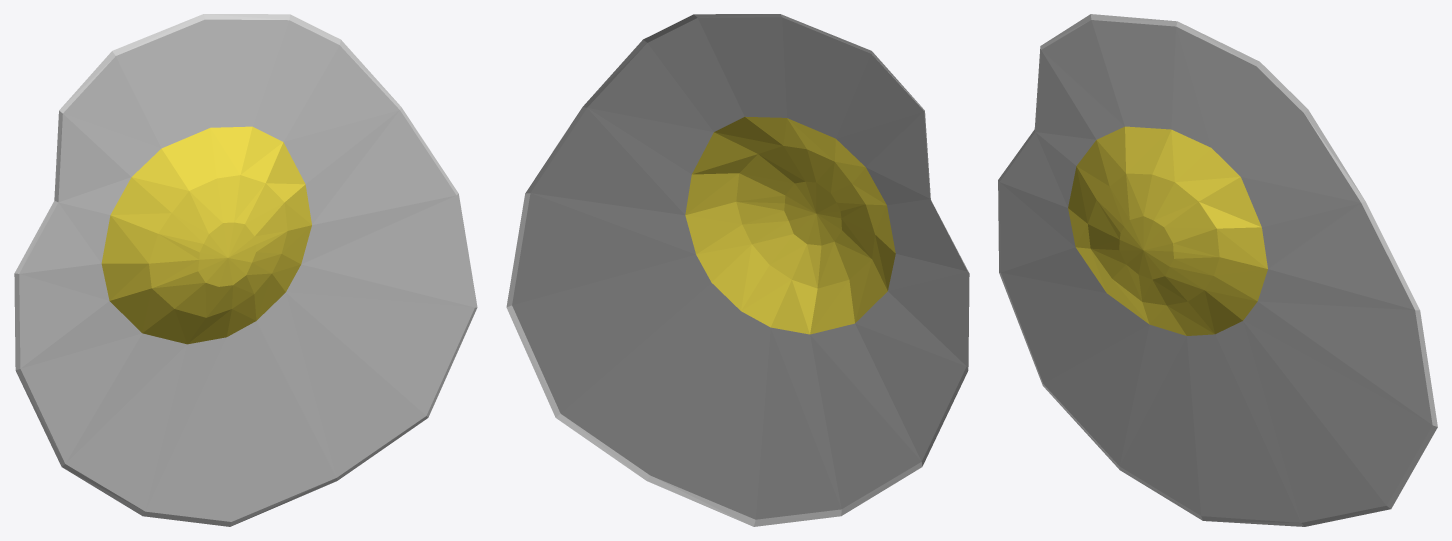
The model's file is acdbc97d-e049-4685-a772-cb30d535d0f8.glb.
The picture shows the model from 3 angles, left to right: view 1: azimuth 30°, elevation 25°; view 2: azimuth 150°, elevation 25°; view 3: azimuth 330°, elevation 25°; orthographic projection. The views are drawn at different scales.
Parts seen in each view (by area): view 1: egg; view 2: egg; view 3: egg.
Part boxes in pixels (x1,y1,x2,y2): egg: (14, 14, 477, 526); egg: (506, 14, 969, 526); egg: (998, 14, 1437, 526).
Bounding box in the file's own units: 200 × 214 × 22.6.
